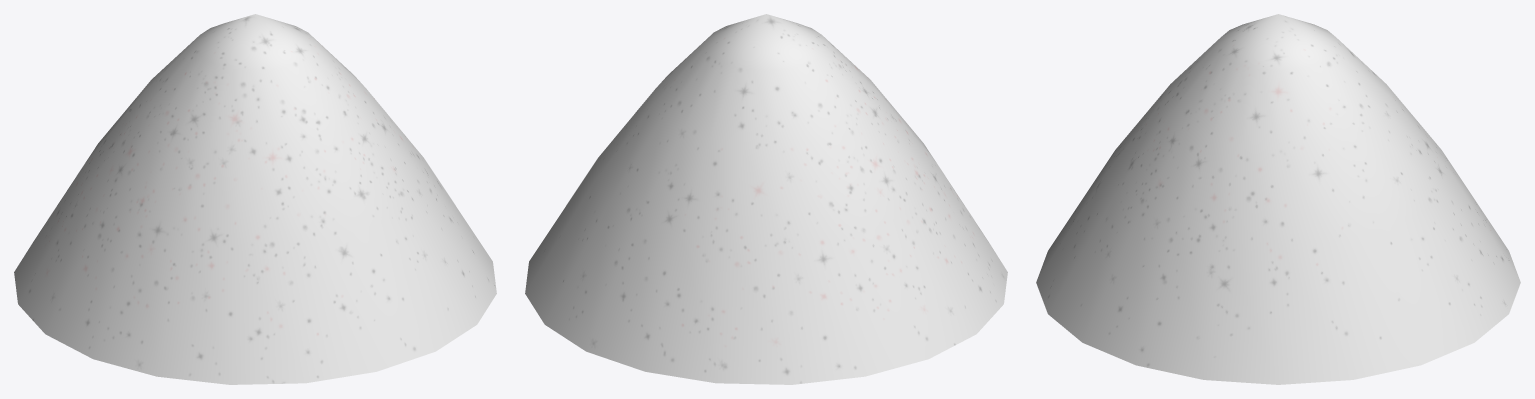
The model's file is salRecipient.fbx.
The picture shows the model from 3 angles, left to right: view 1: azimuth 30°, elevation 25°; view 2: azimuth 150°, elevation 25°; view 3: azimuth 270°, elevation 25°; orthographic projection.
Parts seen in each view (by area): view 1: pCone1; view 2: pCone1; view 3: pCone1.
Part boxes in pixels (x1,y1,x2,y2): pCone1: (14,14,496,384); pCone1: (525,14,1007,384); pCone1: (1036,14,1520,384).
Size of the model in its own units: 2 by 1.22 by 2.
1 material, 1 textured.
